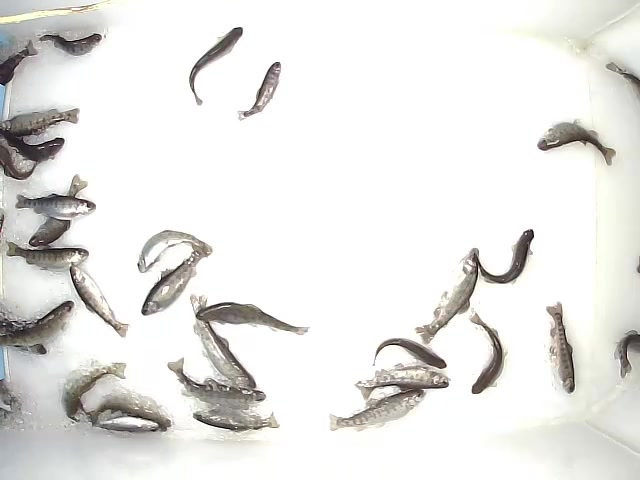fish: (185, 293, 257, 394), (414, 244, 480, 347), (65, 260, 132, 341), (139, 241, 210, 316), (163, 358, 267, 408), (187, 24, 246, 106), (327, 386, 429, 433), (28, 172, 91, 248), (1, 294, 74, 352), (61, 359, 126, 424), (194, 300, 311, 336), (81, 391, 174, 435), (536, 117, 618, 166), (470, 225, 535, 285), (133, 228, 215, 273), (354, 364, 450, 400), (467, 313, 508, 396), (544, 299, 576, 396), (371, 331, 448, 369), (5, 239, 91, 272), (236, 62, 284, 121), (1, 102, 80, 136), (191, 407, 282, 434), (12, 190, 99, 216), (37, 28, 102, 59), (91, 413, 163, 436)
